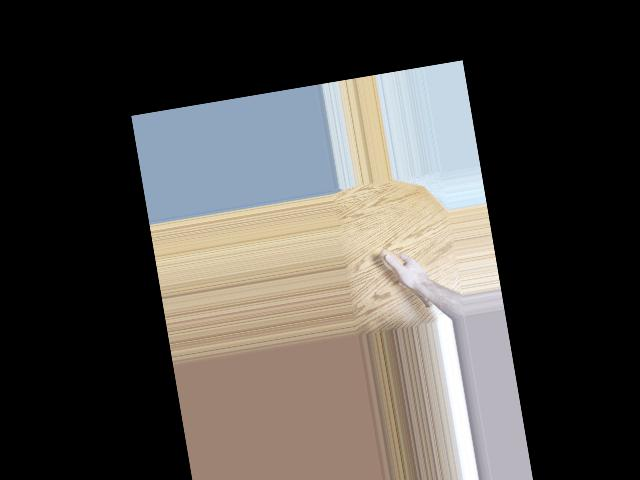sweet_potato: (379, 241, 434, 315)
